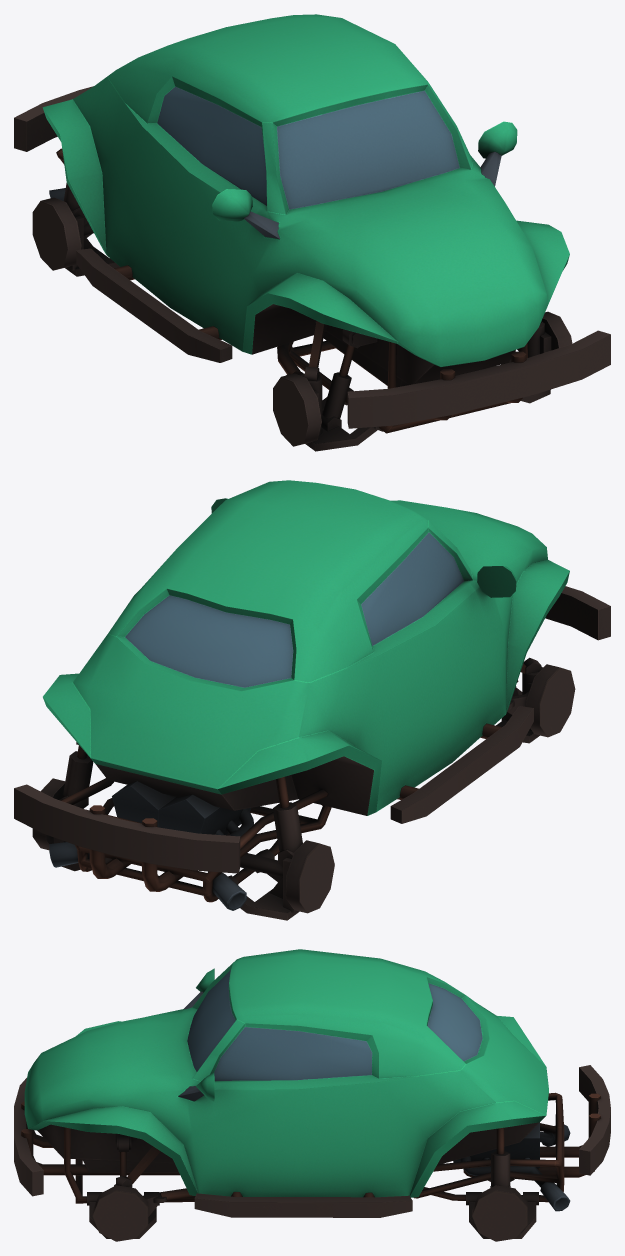
Rendered from LCoupe_v2.FBX.
3 renders of one model, top to bottom at view 1: azimuth 30°, elevation 25°; view 2: azimuth 150°, elevation 25°; view 3: azimuth 270°, elevation 25°, orthographic. The views are drawn at different scales.
Parts seen in each view (by area): view 1: LCoupe_v2; view 2: LCoupe_v2; view 3: LCoupe_v2.
Part boxes in pixels (x1,y1,x2,y2): LCoupe_v2: (14,14,610,451); LCoupe_v2: (14,480,610,920); LCoupe_v2: (14,949,610,1241).
Size of the model in its own units: 2.02 by 1.6 by 3.96.
